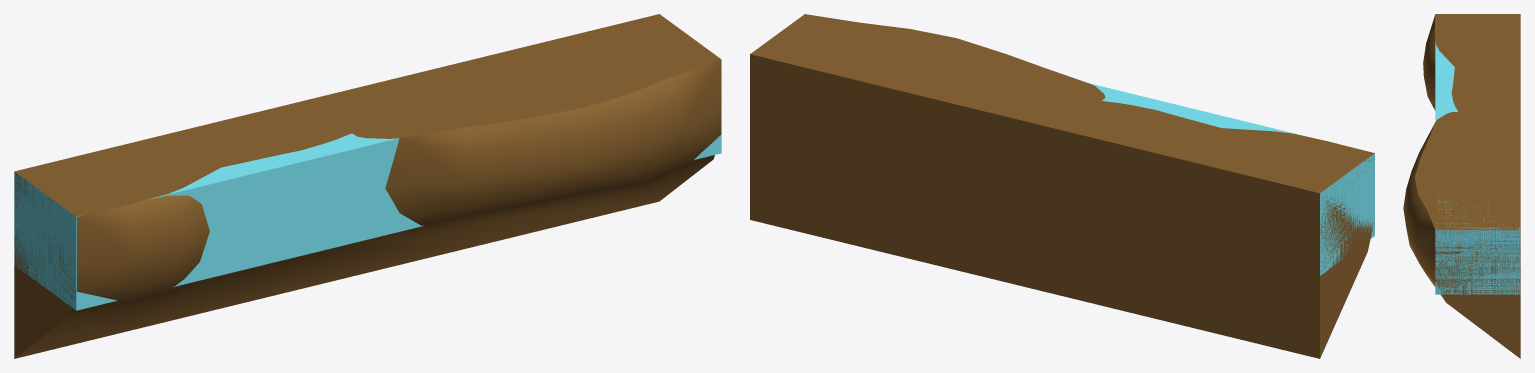
File: PBOX_Mud_BOD_001.FBX
3 views of the same model, side by side, from view 1: azimuth 30°, elevation 25°; view 2: azimuth 150°, elevation 25°; view 3: azimuth 270°, elevation 25° (orthographic). The views are drawn at different scales.
Parts seen in each view (by area): view 1: PBOX3_SUB_Mud_BOD_002, PBOX3_Mud_BOD_002; view 2: PBOX3_SUB_Mud_BOD_002, PBOX3_Mud_BOD_002; view 3: PBOX3_SUB_Mud_BOD_002, PBOX3_Mud_BOD_002.
Part boxes in pixels (x1,y1,x2,y2): PBOX3_SUB_Mud_BOD_002: [14, 14, 721, 358]; PBOX3_Mud_BOD_002: [14, 59, 721, 310]; PBOX3_SUB_Mud_BOD_002: [750, 14, 1374, 358]; PBOX3_Mud_BOD_002: [1090, 83, 1374, 275]; PBOX3_SUB_Mud_BOD_002: [1403, 14, 1520, 358]; PBOX3_Mud_BOD_002: [1435, 40, 1520, 294].
Size of the model in its own units: 18 by 5 by 4.12.
